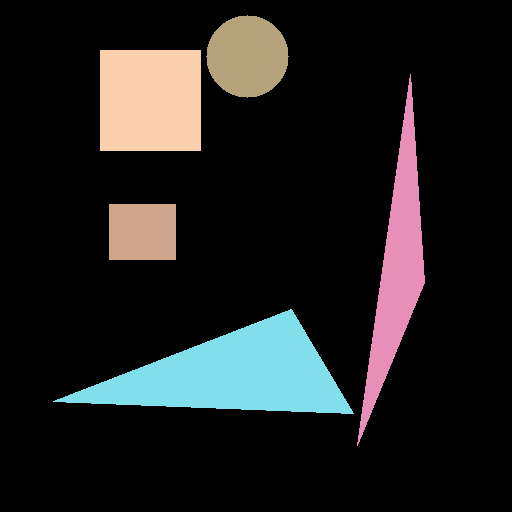circle: (206, 15, 288, 97)
rectangle: (109, 204, 175, 259)
square: (100, 50, 200, 150)
triangle: (53, 309, 353, 413), (357, 74, 424, 445)
